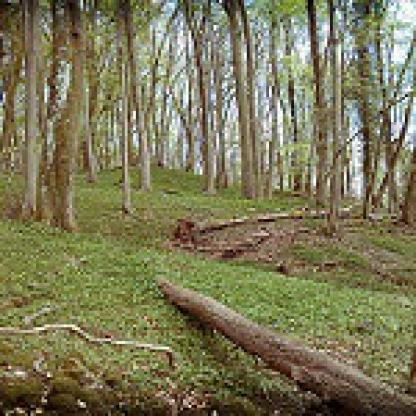trunk: (155, 272, 414, 413), (352, 0, 394, 222), (47, 3, 86, 230), (222, 0, 266, 197), (19, 0, 50, 228), (305, 3, 330, 214), (180, 208, 333, 236), (119, 31, 133, 214), (133, 81, 155, 194), (183, 34, 197, 178)
